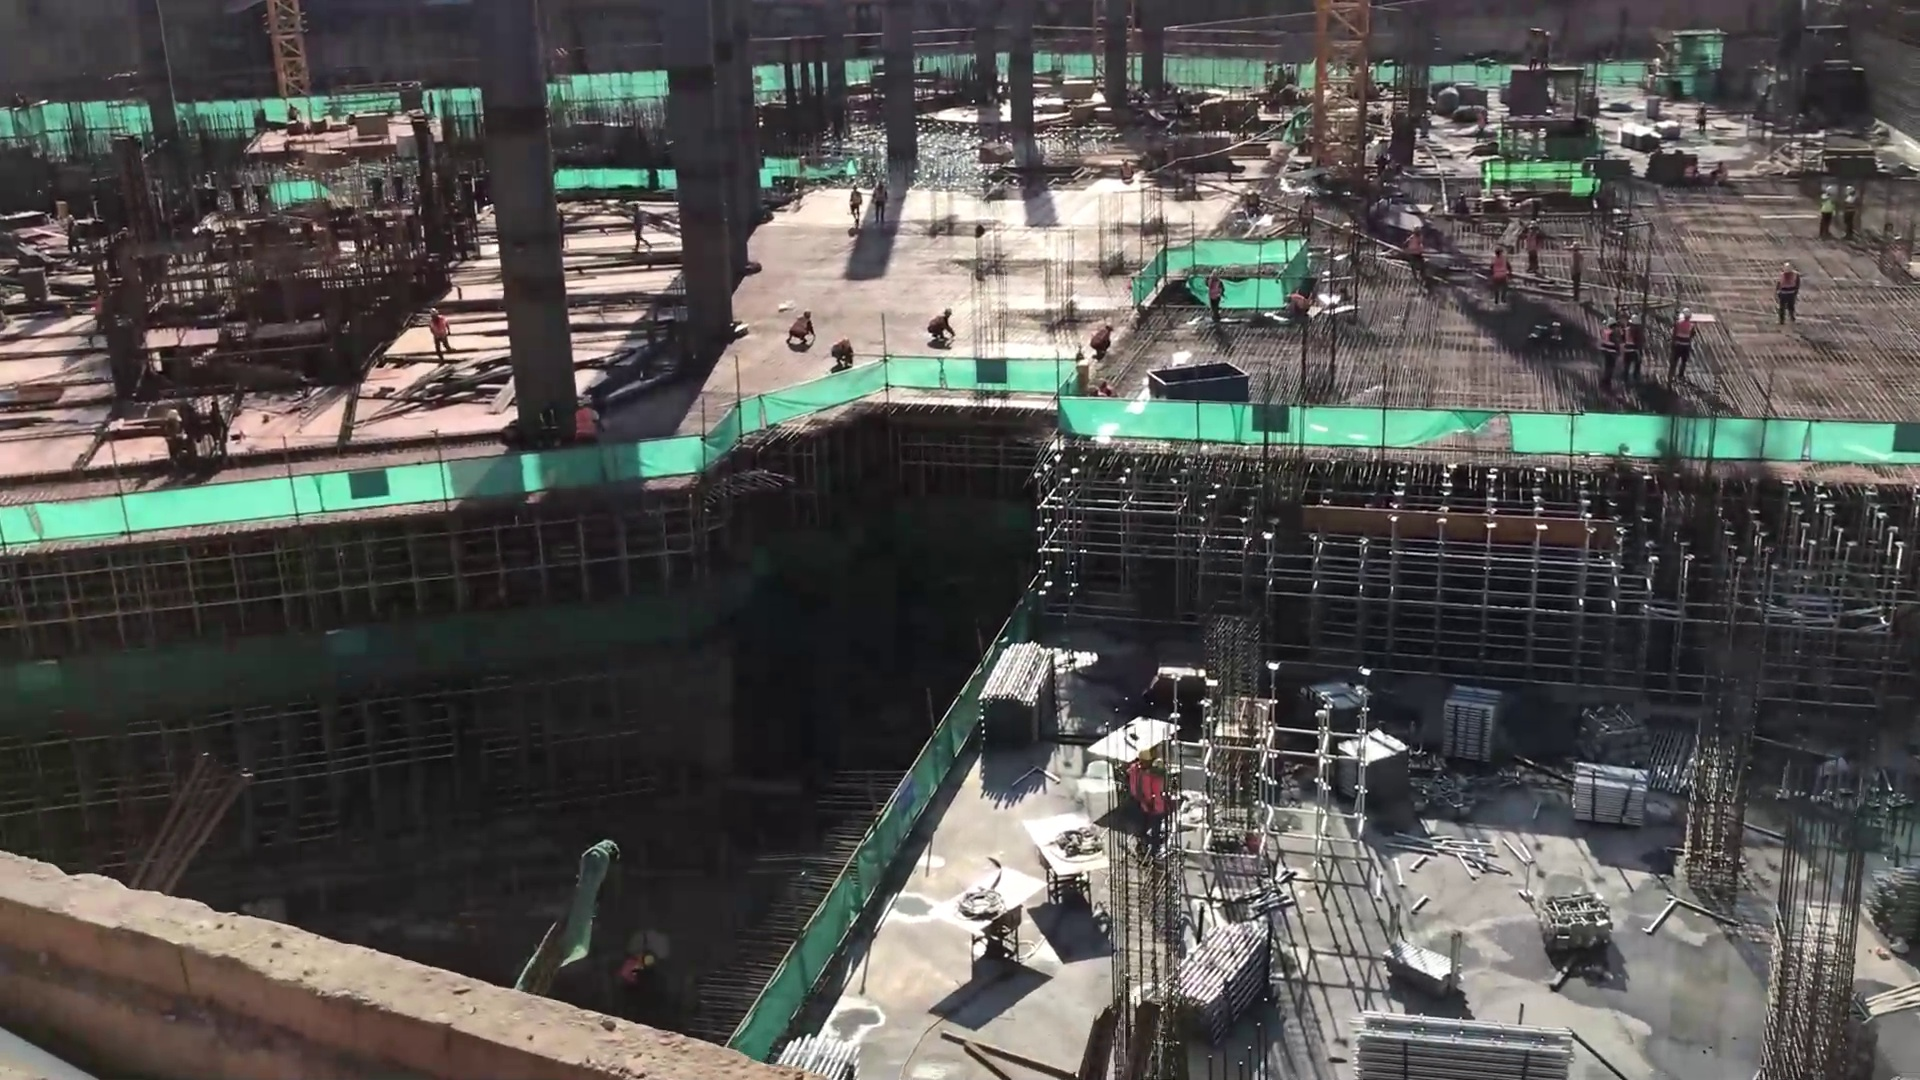person: (1141, 757, 1170, 848), (1670, 306, 1693, 390), (1773, 261, 1801, 324), (572, 396, 603, 443), (1487, 248, 1512, 305), (424, 303, 452, 354), (927, 307, 958, 351), (1129, 746, 1151, 804), (1404, 225, 1427, 282), (1624, 314, 1643, 378), (1599, 315, 1616, 386), (1205, 267, 1224, 324), (629, 200, 649, 255), (1282, 293, 1313, 323), (788, 310, 812, 349), (870, 177, 890, 224), (1525, 220, 1541, 274), (1298, 192, 1316, 237), (846, 182, 862, 232), (1090, 324, 1112, 359), (1570, 240, 1583, 301), (831, 337, 855, 365), (1821, 184, 1833, 240), (1844, 186, 1856, 241), (1694, 102, 1706, 135)
scaffold: (1358, 1011, 1573, 1080), (1151, 924, 1263, 1028), (977, 641, 1056, 741), (1572, 759, 1649, 827), (1444, 684, 1503, 764)
